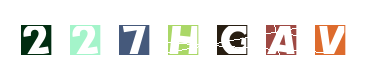2: (73, 0, 153, 80), (80, 0, 160, 80)
7: (96, 0, 176, 80)
A: (238, 0, 318, 80)
G: (154, 0, 234, 80)
H: (150, 0, 230, 80)
V: (289, 0, 369, 80)
